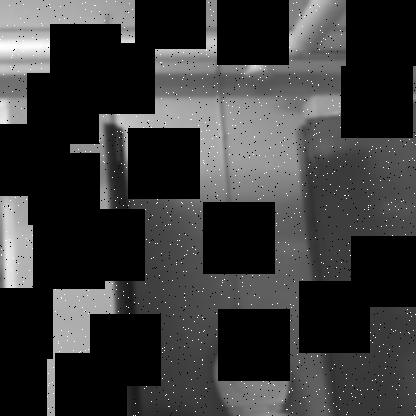Porte: (103, 98, 415, 415)
